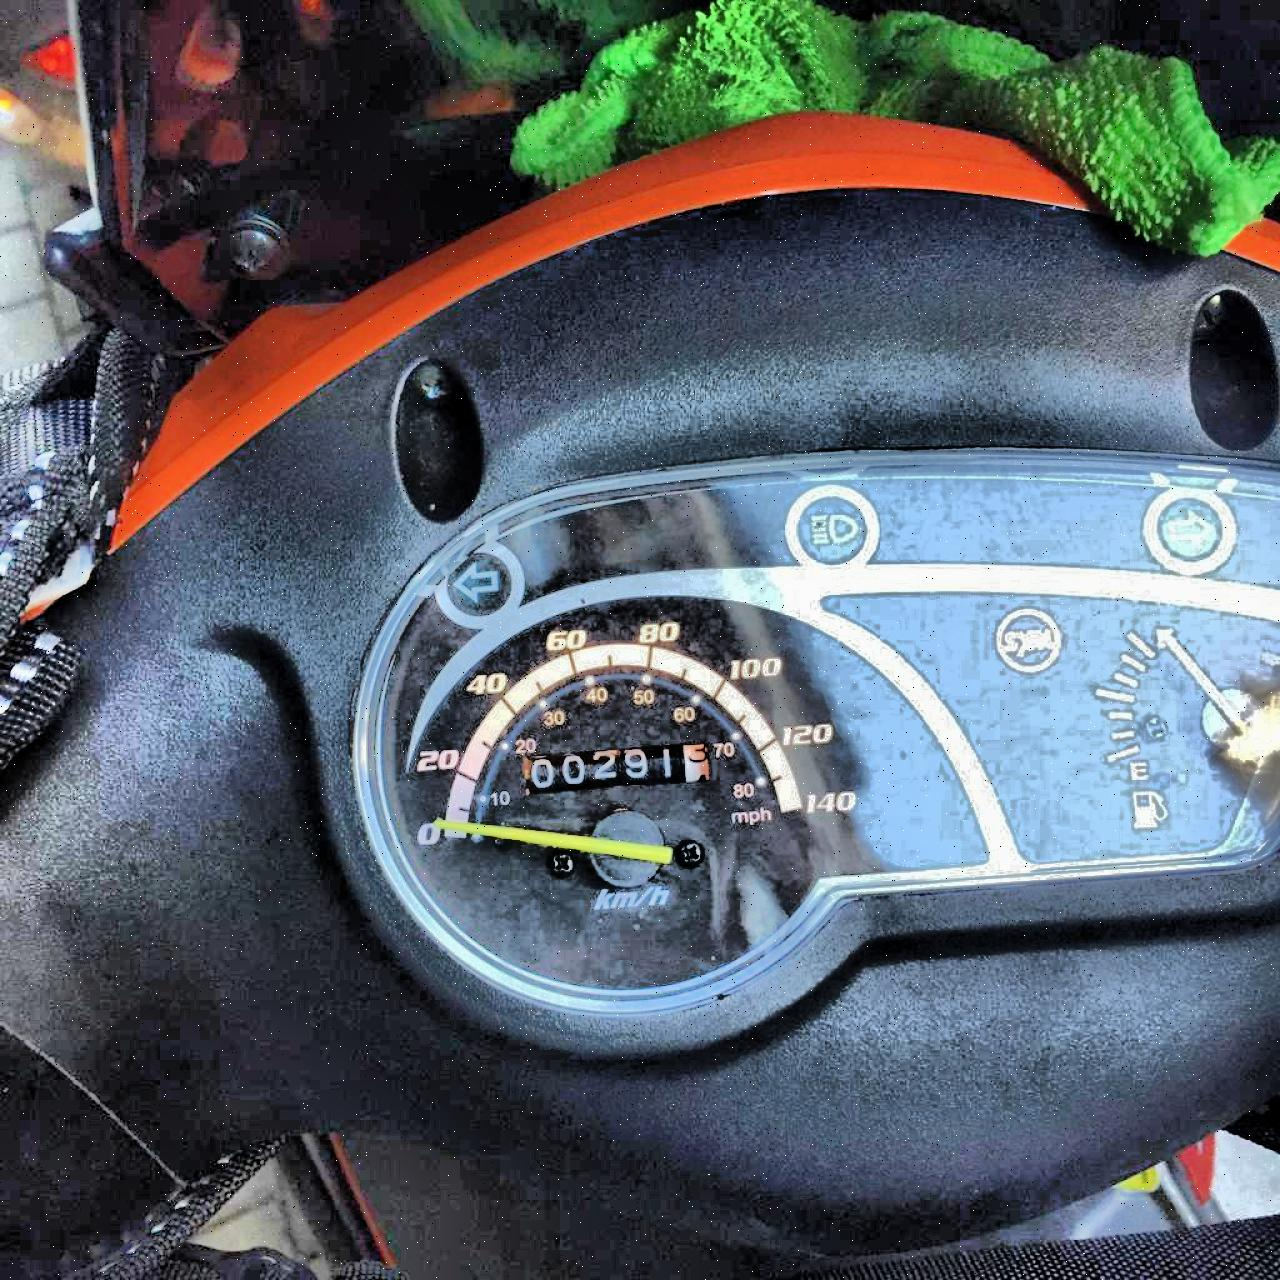0: (530, 757, 552, 788), (561, 754, 584, 784), (525, 737, 535, 751)
1: (661, 748, 670, 776)
2: (592, 750, 617, 778)
3: (686, 738, 706, 763)
9: (622, 748, 647, 777)
odometer: (523, 741, 710, 795)
